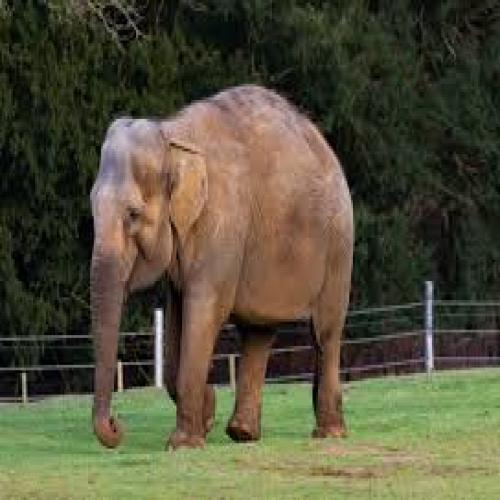asian_elephant-endangered: (91, 85, 356, 448)
